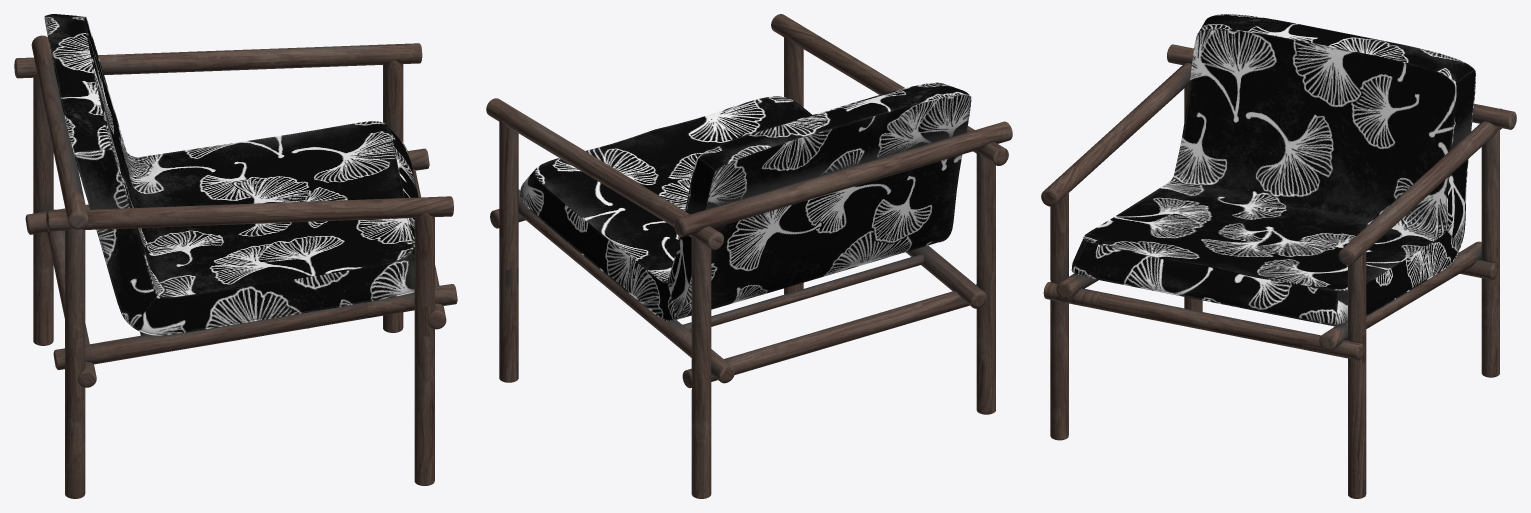
File: MOD_ART_ThreeRooms.fbx_Chair_2.fbx
3 views of the same model, side by side, from view 1: azimuth 30°, elevation 25°; view 2: azimuth 150°, elevation 25°; view 3: azimuth 270°, elevation 25° (orthographic). The views are drawn at different scales.
Visible parts, largest first — view 1: Botanical Pattern Small chair 2; view 2: Botanical Pattern Small chair 2; view 3: Botanical Pattern Small chair 2.
Part boxes in pixels (x1,y1,x2,y2): Botanical Pattern Small chair 2: (14, 14, 457, 498); Botanical Pattern Small chair 2: (486, 14, 1012, 498); Botanical Pattern Small chair 2: (1041, 14, 1516, 498).
Size of the model in its own units: 92.51 by 66.82 by 92.06.
1 material, 1 textured.
